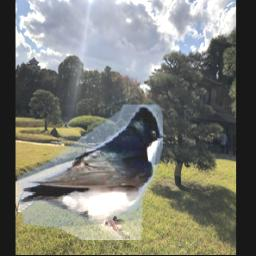Swallow: (18, 105, 164, 240)
